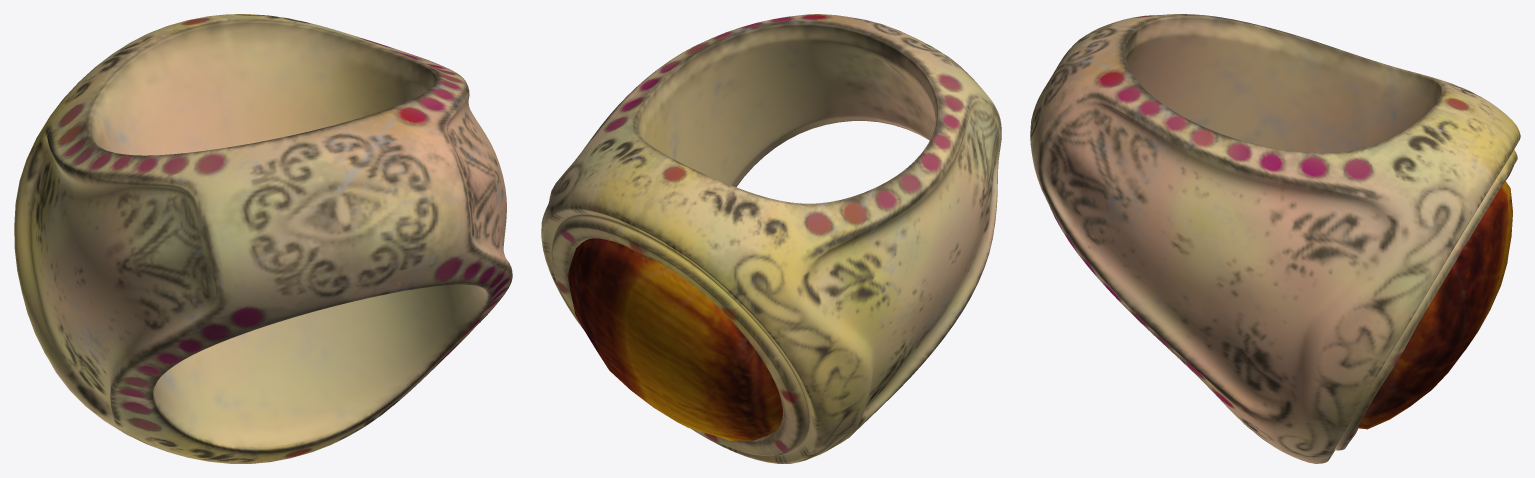
The model's file is yuzuk_v3_pivoted.FBX.
3 renders of one model, left to right at view 1: azimuth 30°, elevation 25°; view 2: azimuth 150°, elevation 25°; view 3: azimuth 270°, elevation 25°, orthographic. The views are drawn at different scales.
Parts seen in each view (by area): view 1: ring_low; view 2: ring_low; view 3: ring_low.
Part boxes in pixels (x1=…): ring_low: x1=14, y1=14, x2=512, y2=463; ring_low: x1=541, y1=14, x2=1001, y2=463; ring_low: x1=1030, y1=14, x2=1520, y2=463.
Size of the model in its own units: 0.7342 by 0.8119 by 0.7011.
Materials: 1 (1 with a texture image).
